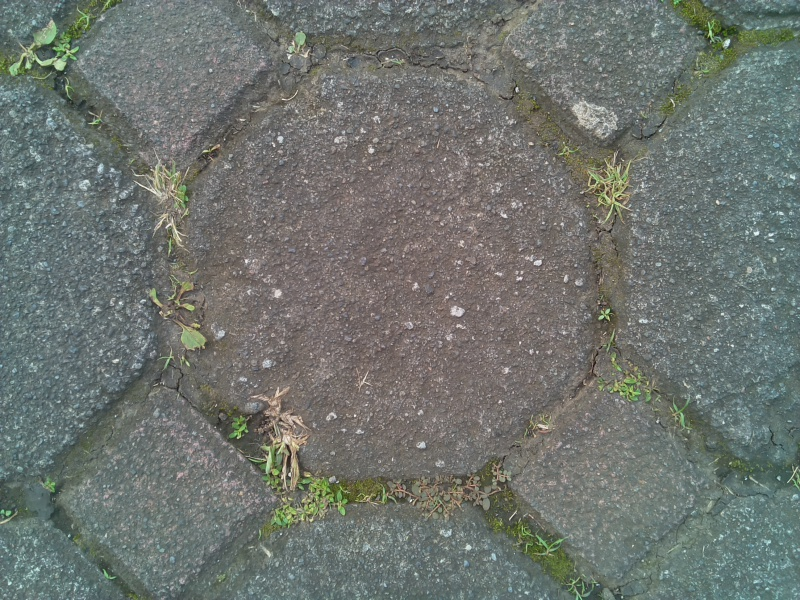Weed: (389, 470, 496, 525), (141, 275, 214, 351), (256, 392, 310, 490), (136, 162, 196, 248), (269, 475, 351, 530), (586, 154, 639, 230), (3, 20, 64, 77), (595, 344, 646, 406), (522, 522, 562, 561), (355, 480, 395, 517), (279, 32, 318, 64), (664, 390, 696, 428), (222, 410, 254, 445), (527, 406, 558, 442), (697, 17, 727, 49), (82, 103, 110, 132), (553, 135, 579, 166), (34, 471, 62, 499), (593, 302, 617, 325), (161, 346, 183, 370)
